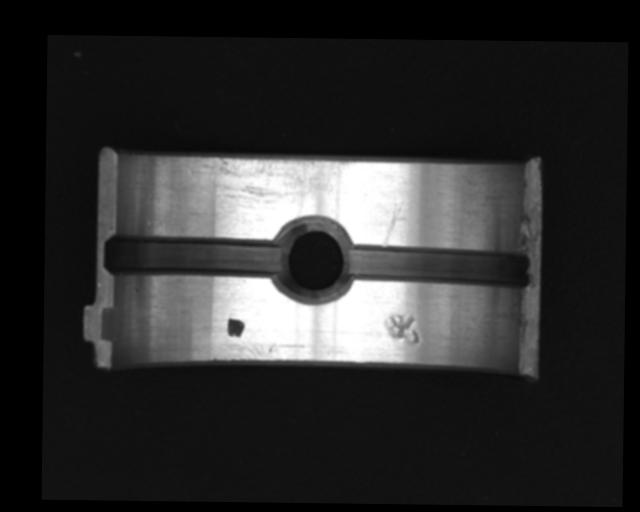blot: (226, 317, 245, 337)
bruise: (383, 314, 420, 344)
gap: (343, 242, 531, 292), (103, 234, 281, 278)
hole: (272, 217, 355, 303)
nick: (380, 192, 405, 247)
scratch: (185, 153, 352, 212)
